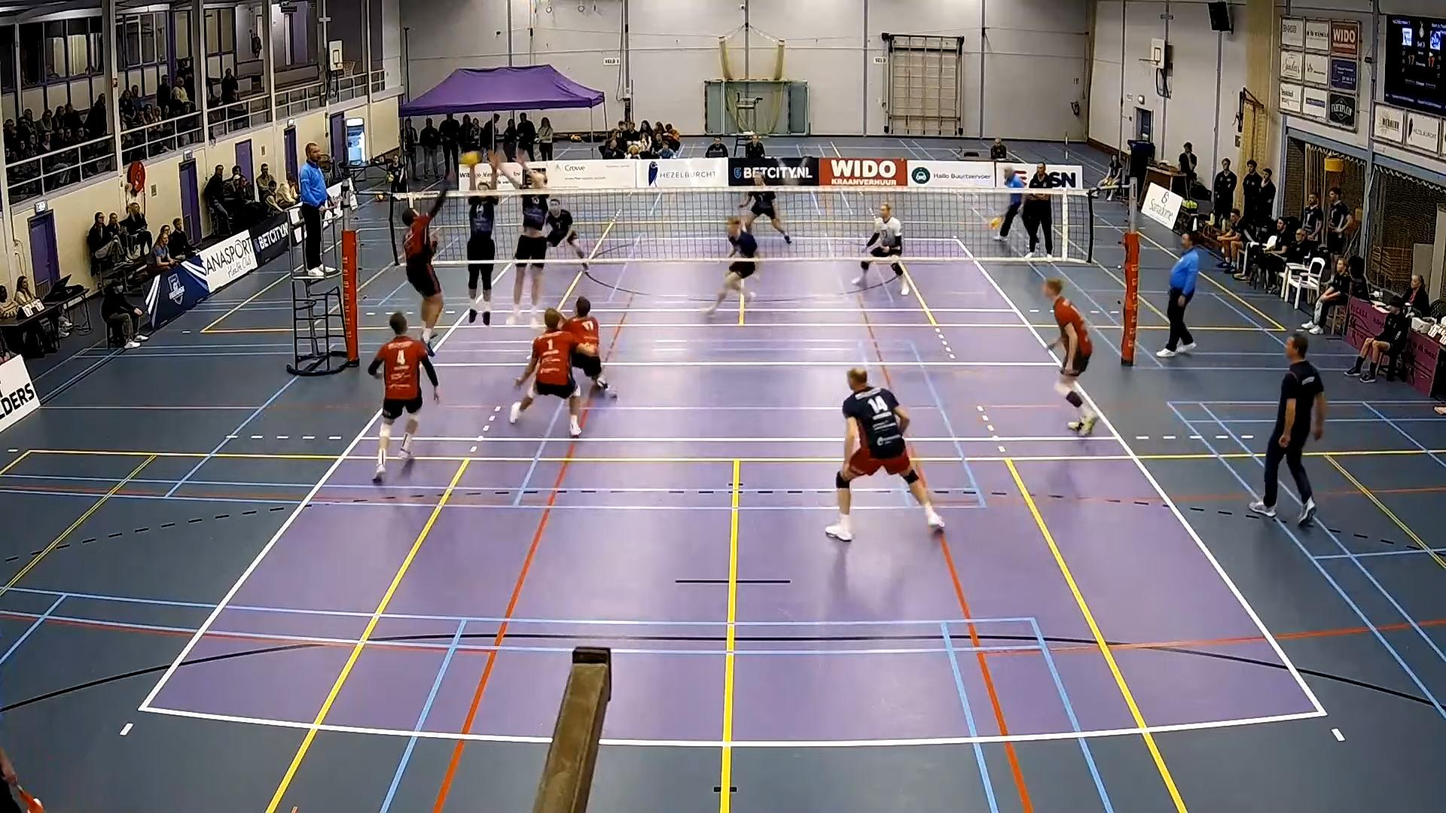Attack: (393, 174, 450, 355)
Block: (490, 147, 555, 329), (456, 141, 501, 333)
Player: (825, 368, 944, 540), (368, 312, 439, 480), (509, 309, 596, 437), (1042, 278, 1097, 435), (705, 216, 757, 314), (866, 203, 910, 296), (739, 175, 790, 242), (546, 198, 587, 269), (563, 296, 599, 348)
ball: (461, 153, 478, 164)
